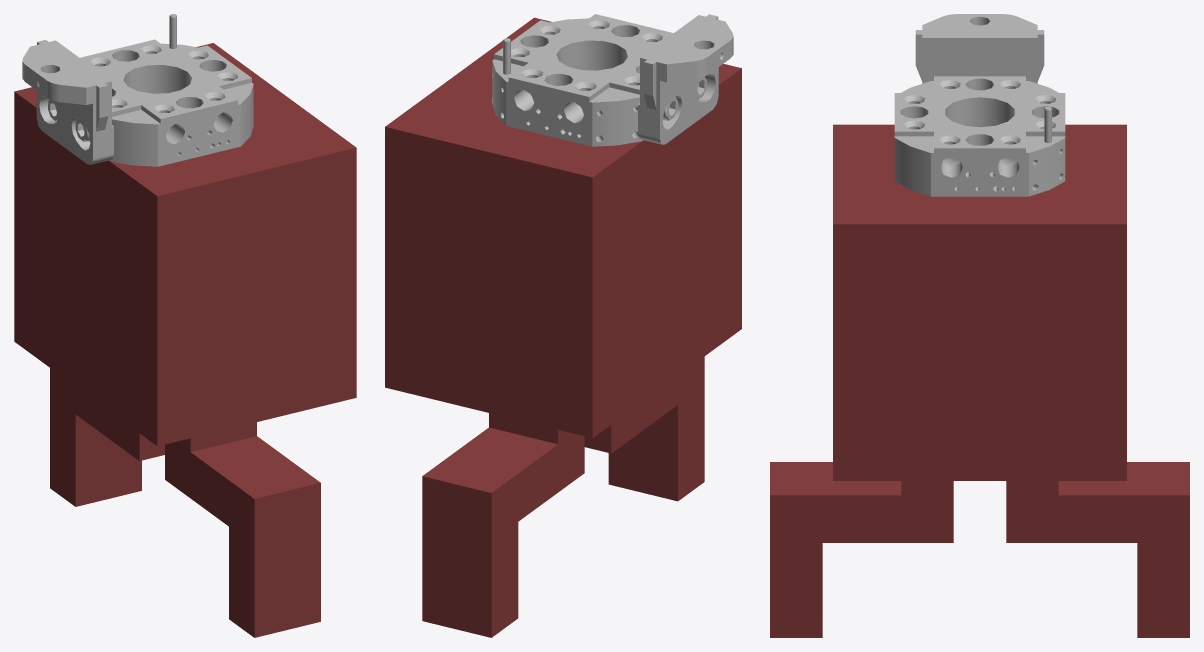
File: Gripper_EGL90Schunk_1.fbx
The picture shows the model from 3 angles, left to right: view 1: azimuth 30°, elevation 25°; view 2: azimuth 150°, elevation 25°; view 3: azimuth 270°, elevation 25°; orthographic projection. The views are drawn at different scales.
Parts seen in each view (by area): view 1: Gripper_EGL90Schunk:1; view 2: Gripper_EGL90Schunk:1; view 3: Gripper_EGL90Schunk:1.
Boxes of the visible parts, x1,y1,x2,y2 form: Gripper_EGL90Schunk:1: (14,14,356,637); Gripper_EGL90Schunk:1: (385,14,741,637); Gripper_EGL90Schunk:1: (770,14,1189,637).
Bounding box in the file's own units: 11.25 × 22.4 × 16.
